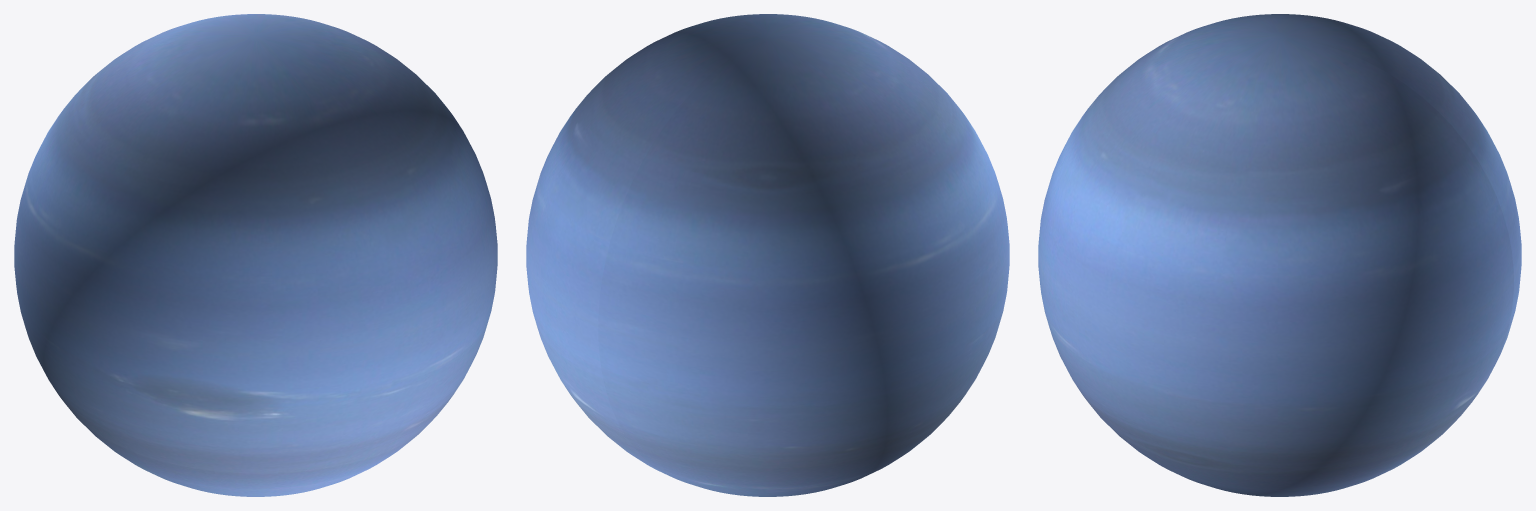
The model's file is NeptuneModel.obj.
3 views of the same model, side by side, from view 1: azimuth 30°, elevation 25°; view 2: azimuth 150°, elevation 25°; view 3: azimuth 270°, elevation 25° (orthographic).
Parts seen in each view (by area): view 1: obj1; view 2: obj1; view 3: obj1.
Boxes of the visible parts, box(x1,y1,x2,y2) form: obj1: box(14, 14, 497, 496); obj1: box(526, 14, 1009, 496); obj1: box(1038, 14, 1521, 496).
Size of the model in its own units: 1 by 1 by 1.
